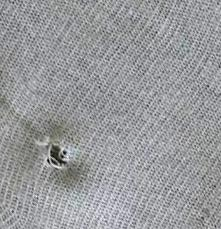hole: (45, 135, 74, 174)
